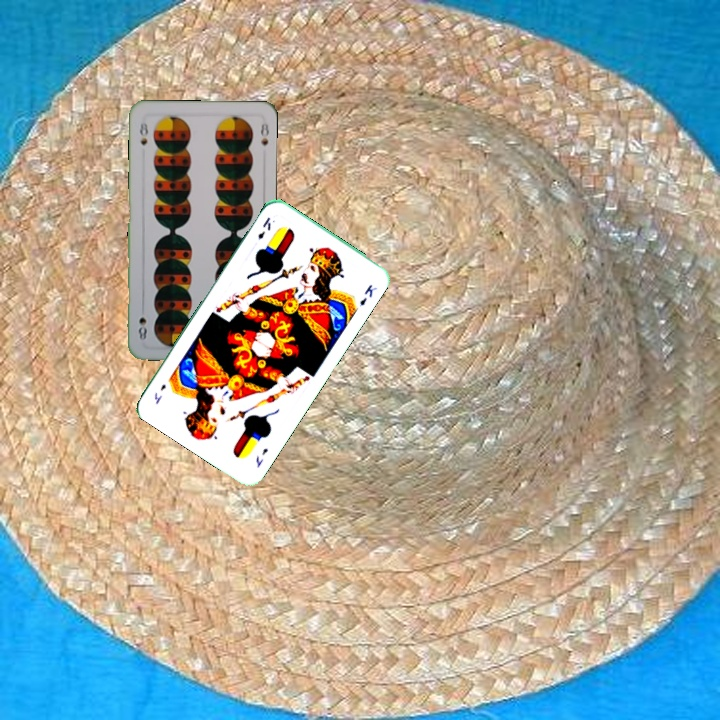EK: (254, 213, 274, 242), (252, 444, 271, 470)
S8: (136, 119, 151, 148)
